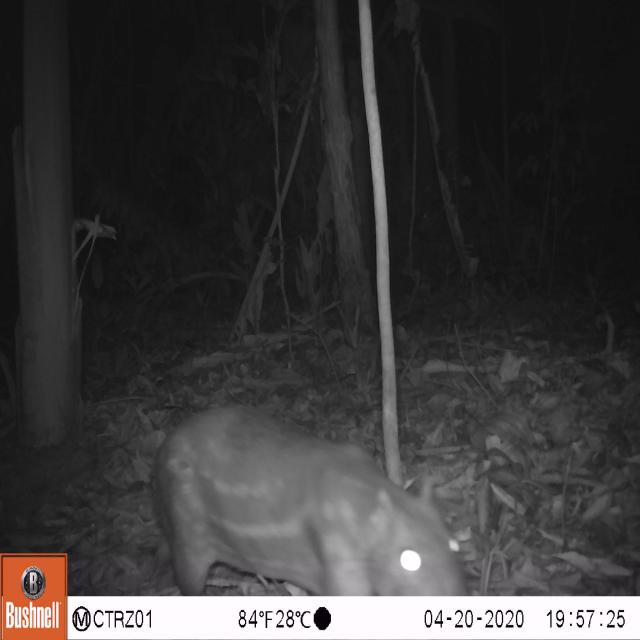Spotted Paca: (148, 388, 476, 594)
